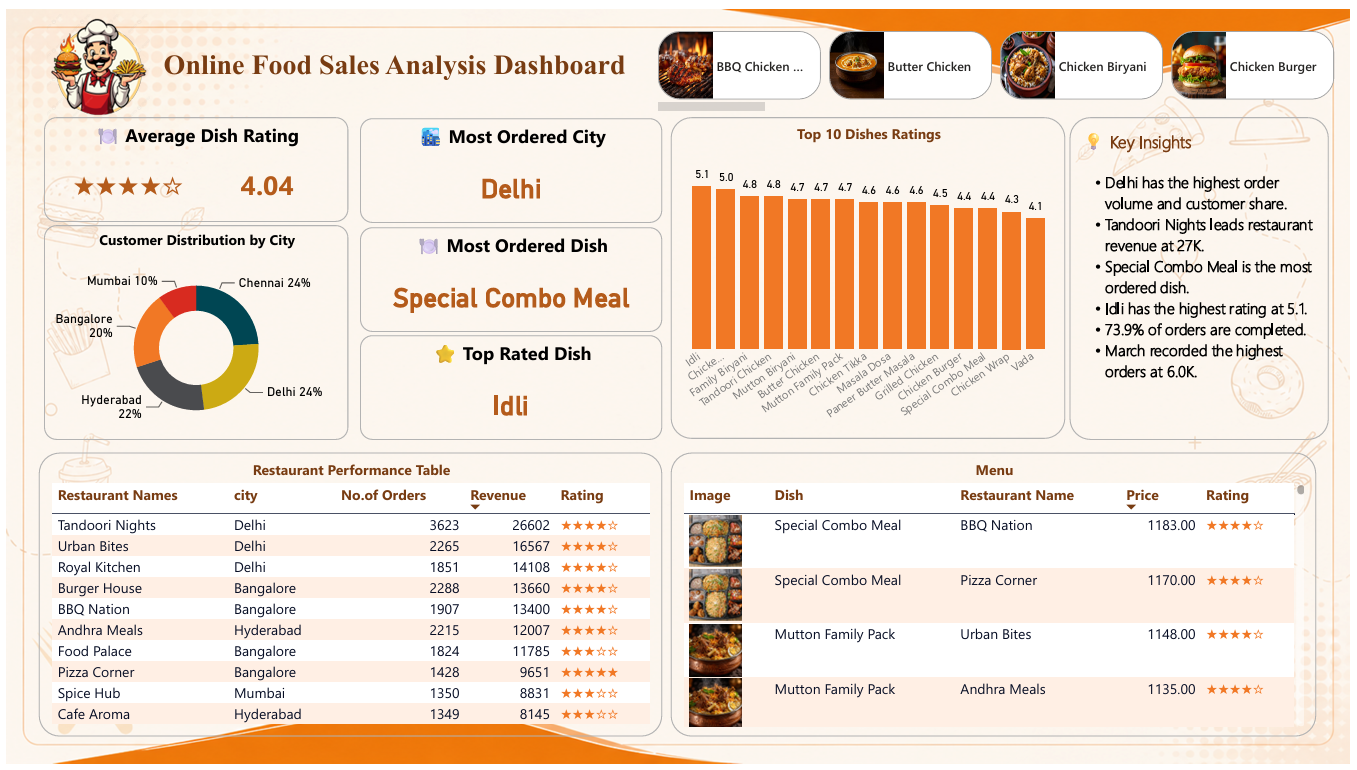

What the dashboard file says about the page in this screenshot:
{"tool":"powerbi","page":{"name":"➡️Next Page","canvas":[1280,720],"ordinal":1},"visuals":[{"type":"donutChart","title":"Customer Distribution by City","fields":{"Category":["customers.city"],"Y":["CountNonNull(customers.customer_id)"]},"box":[36.4,206.3,289.5,205.1],"z":0},{"type":"tableEx","title":"Menu","fields":{"Values":["orders.dish_url","orders.dish","restaurants.restaurant_name","Avg(orders.order_amount)","customers.avg food Rating"]},"box":[633.2,423.5,615.3,270.2],"z":1000},{"type":"image","box":[0,0,177.3,114.6],"z":2000},{"type":"cardVisual","title":"🍽️ Average Dish Rating","fields":{"Data":["customers.avg food Rating","Avg(orders.rating)"]},"box":[36.4,102.5,289.5,100.1],"z":3000},{"type":"tableEx","title":"Restaurant Performance Table","fields":{"Values":["restaurants.restaurant_name","restaurants.city","Sum(orders.order_id)","Sum(orders.order_amount)","customers.Count of Rating Star Rating"]},"box":[31.2,423.5,593.6,270.2],"z":4000},{"type":"card","title":"🍽️ Most Ordered Dish","fields":{"Values":["customers.Top Dish Orders"]},"box":[336.6,207.5,288.3,100.1],"z":5000},{"type":"columnChart","title":"Top 10 Dishes Ratings","fields":{"Y":["Avg(orders.rating)"],"Category":["orders.dish"]},"box":[633.4,102.5,375.2,307.6],"z":6000},{"type":"card","title":"⭐ Top Rated Dish","fields":{"Values":["customers.Top Rated Food"]},"box":[336.6,311.3,288.3,100.1],"z":7000},{"type":"card","title":"🏙️ Most Ordered City","fields":{"Values":["customers.Top Ordered City"]},"box":[336.6,103.8,288.3,100.1],"z":8000},{"type":"textbox","box":[144.8,14.5,480.2,62.7],"z":9000},{"type":"textbox","box":[1013.4,102.5,246.1,308.8],"z":10000},{"type":"advancedSlicerVisual","title":"Dish","fields":{"Values":["orders.dish"]},"box":[616.5,15.7,653.9,88.1],"z":11000}]}

Visuals, with their boxes in screenshot pixels (x1, y1, x2, y2), scaled from the page's 1280x720 canvas onto the 1357x770 screenshot:
"Customer Distribution by City" donutChart: <bbox>39, 221, 346, 440</bbox>
"Menu" tableEx: <bbox>671, 453, 1324, 742</bbox>
image: <bbox>0, 0, 188, 123</bbox>
"🍽️ Average Dish Rating" cardVisual: <bbox>39, 110, 346, 217</bbox>
"Restaurant Performance Table" tableEx: <bbox>33, 453, 662, 742</bbox>
"🍽️ Most Ordered Dish" card: <bbox>357, 222, 662, 329</bbox>
"Top 10 Dishes Ratings" columnChart: <bbox>672, 110, 1069, 439</bbox>
"⭐ Top Rated Dish" card: <bbox>357, 333, 662, 440</bbox>
"🏙️ Most Ordered City" card: <bbox>357, 111, 662, 218</bbox>
textbox: <bbox>154, 16, 663, 83</bbox>
textbox: <bbox>1074, 110, 1335, 440</bbox>
"Dish" advancedSlicerVisual: <bbox>654, 17, 1347, 111</bbox>
